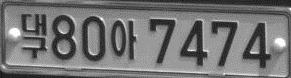0: (81, 15, 106, 62)
4: (242, 22, 271, 67), (180, 20, 207, 65)
7: (148, 18, 176, 64), (211, 21, 238, 66)
8: (51, 14, 77, 59)
대구_V: (21, 13, 47, 59)
아: (110, 19, 137, 59)
